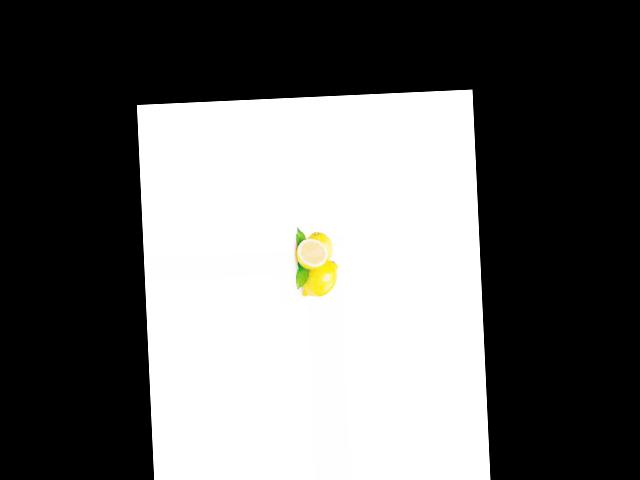lemon: (292, 238, 328, 270)
